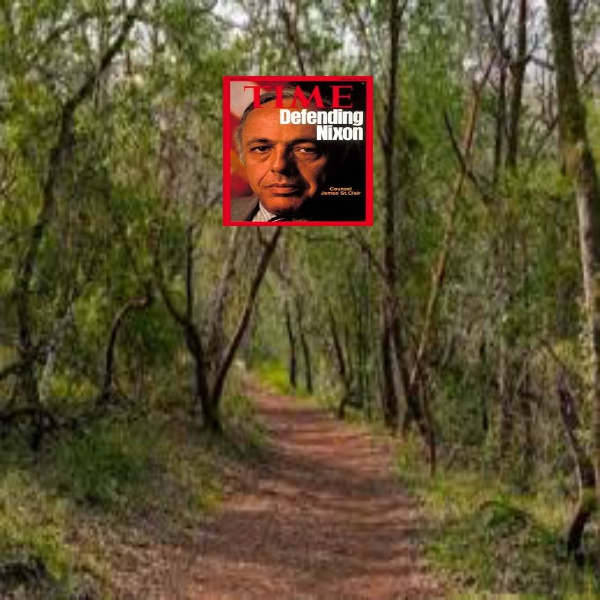time_cover: (216, 61, 375, 219)
